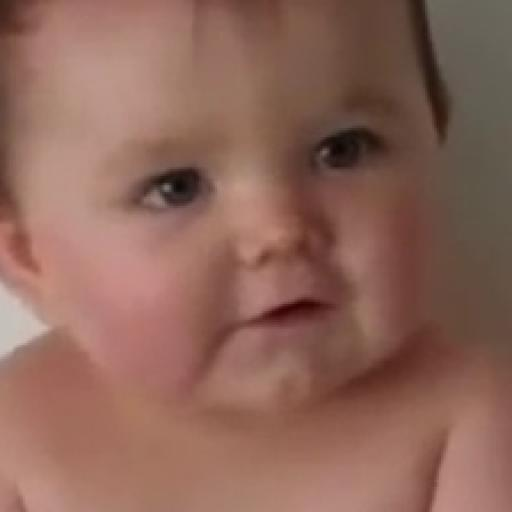Autism: (14, 18, 474, 455)
